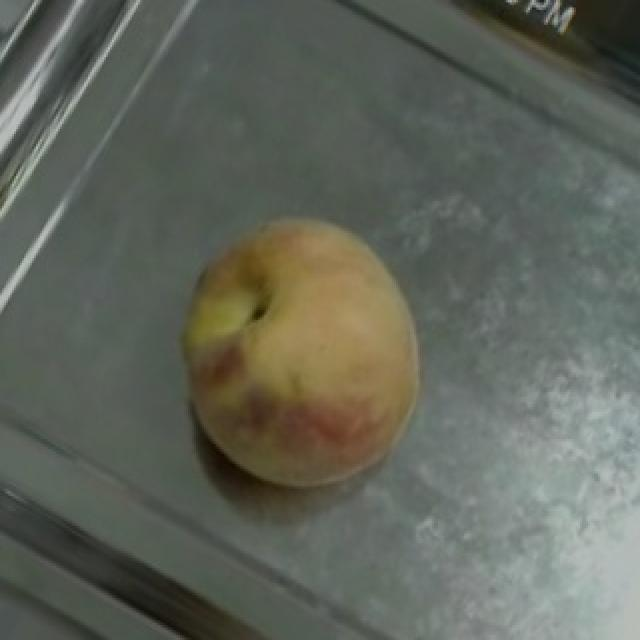Fruit: (132, 171, 464, 531)
